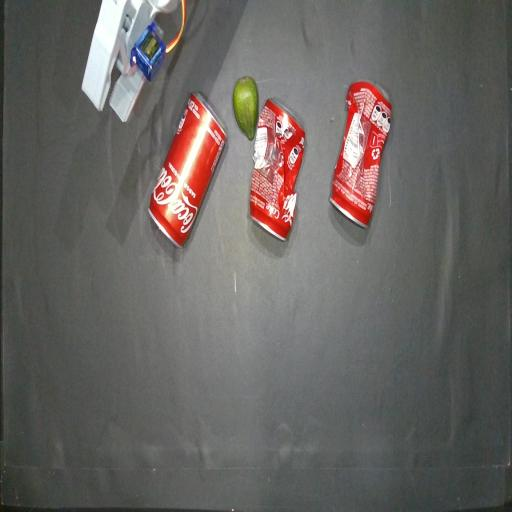higo: (233, 76, 258, 140)
lata: (148, 92, 226, 247)
lata_defectuoso: (330, 81, 392, 227), (250, 99, 305, 240)
